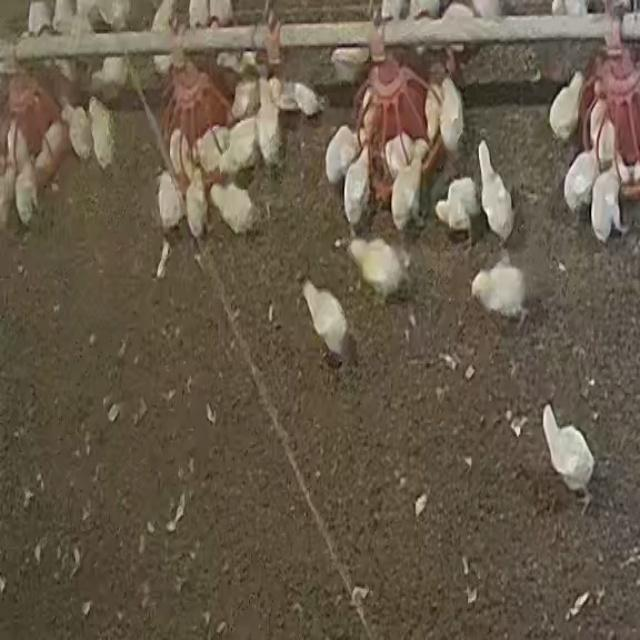chicken: (537, 399, 605, 519), (464, 262, 535, 330), (477, 136, 520, 244), (349, 237, 409, 308), (389, 138, 429, 232), (301, 282, 349, 358), (592, 162, 632, 246), (341, 144, 378, 228), (206, 182, 258, 235), (86, 95, 122, 171), (256, 78, 286, 168), (548, 68, 584, 140), (560, 145, 598, 209), (436, 176, 478, 233), (154, 166, 183, 234), (224, 117, 256, 175), (190, 124, 229, 169), (185, 168, 209, 237), (16, 163, 42, 225), (163, 127, 192, 169)
